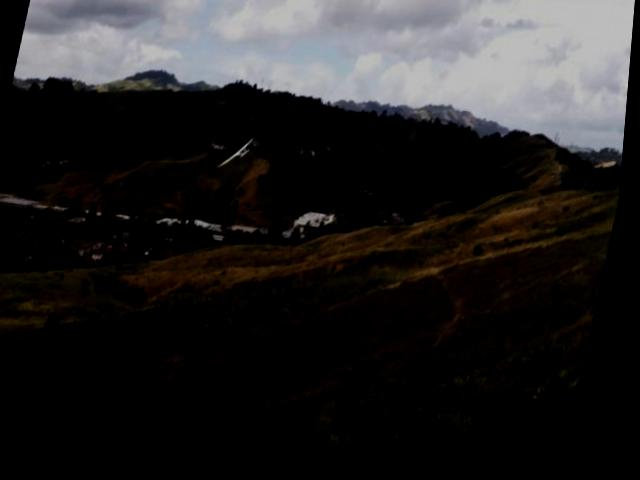iha: (221, 138, 257, 177)
